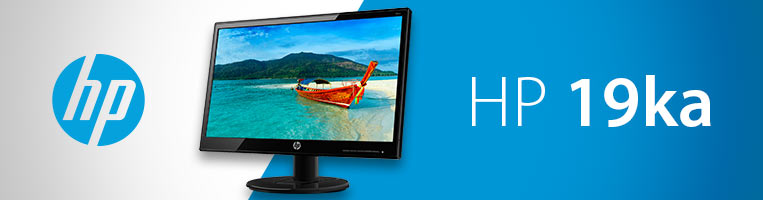hp-monitor-19ka: (196, 4, 419, 199)
